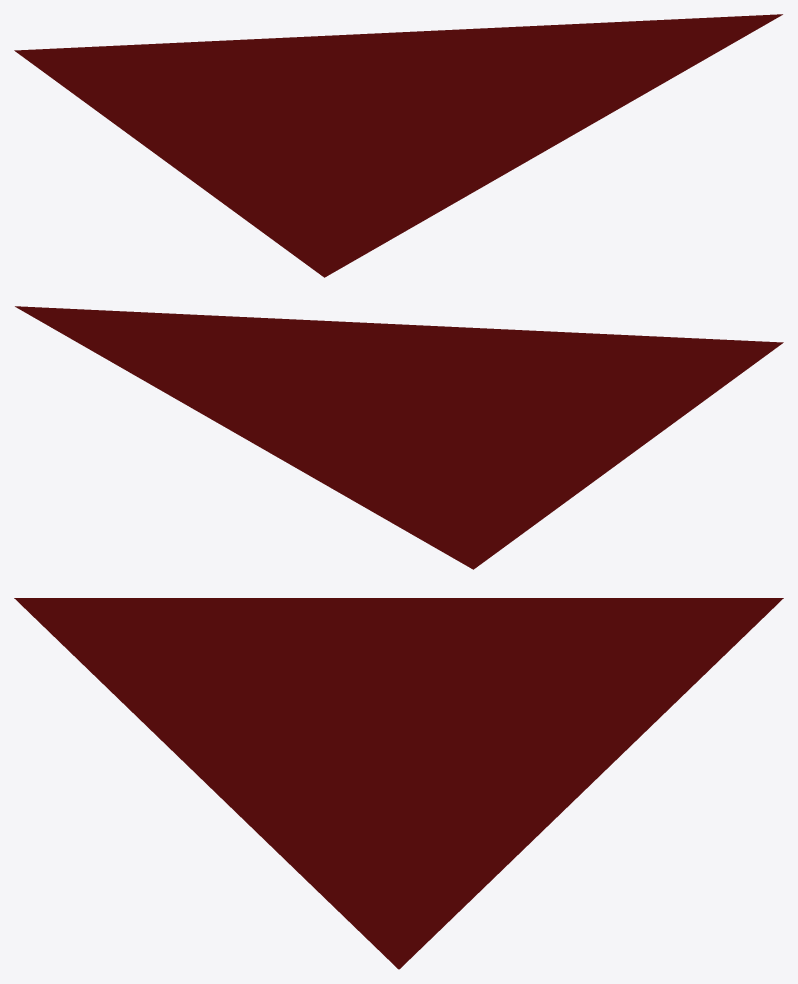
File: M_BloodSplat.fbx
3 renders of one model, top to bottom at view 1: azimuth 30°, elevation 25°; view 2: azimuth 150°, elevation 25°; view 3: azimuth 270°, elevation 25°, orthographic. The views are drawn at different scales.
Parts seen in each view (by area): view 1: BloodSplat; view 2: BloodSplat; view 3: BloodSplat.
Boxes of the visible parts, x1,y1,x2,y2 form: BloodSplat: [14, 14, 782, 277]; BloodSplat: [15, 306, 783, 569]; BloodSplat: [14, 598, 783, 969].
Size of the model in its own units: 2.04 by 3.96e-16 by 1.78.
